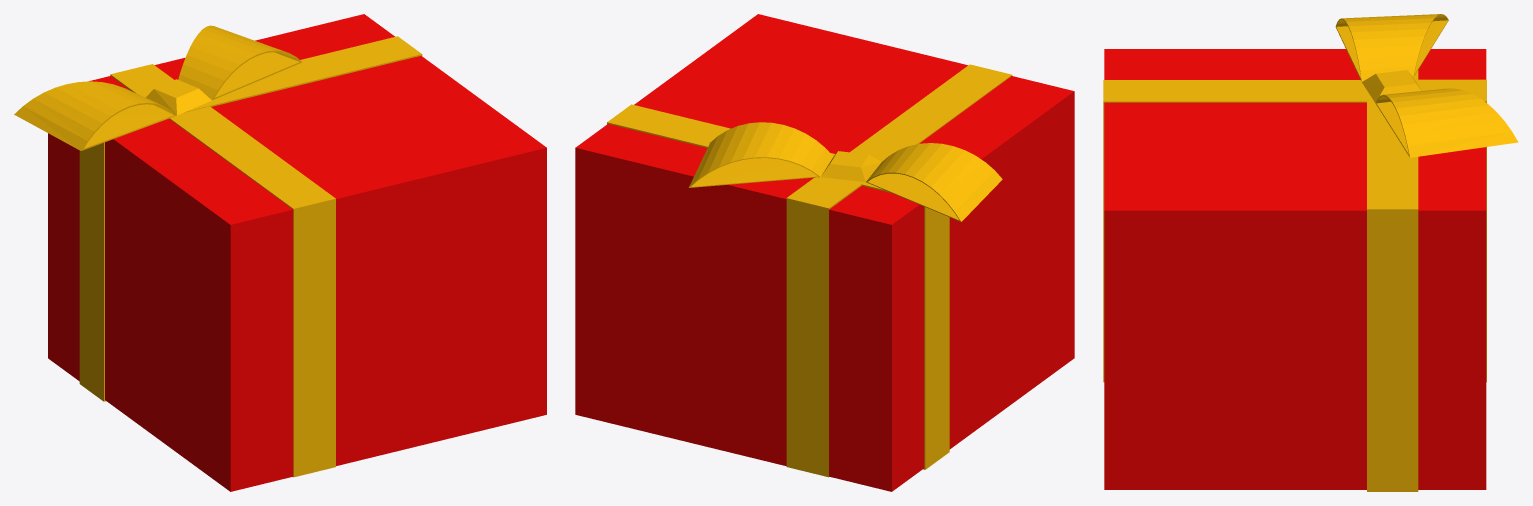
File: Prop_Christmas_Present_Red_05.FBX
The picture shows the model from 3 angles, left to right: view 1: azimuth 30°, elevation 25°; view 2: azimuth 150°, elevation 25°; view 3: azimuth 270°, elevation 25°; orthographic projection. The views are drawn at different scales.
Parts seen in each view (by area): view 1: Prop_Christmas_Present_Red_05; view 2: Prop_Christmas_Present_Red_05; view 3: Prop_Christmas_Present_Red_05.
Part boxes in pixels (<box>): Prop_Christmas_Present_Red_05: <box>14,14,546,491</box>; Prop_Christmas_Present_Red_05: <box>575,14,1074,491</box>; Prop_Christmas_Present_Red_05: <box>1103,14,1518,491</box>.
Size of the model in its own units: 387 by 298 by 360.
